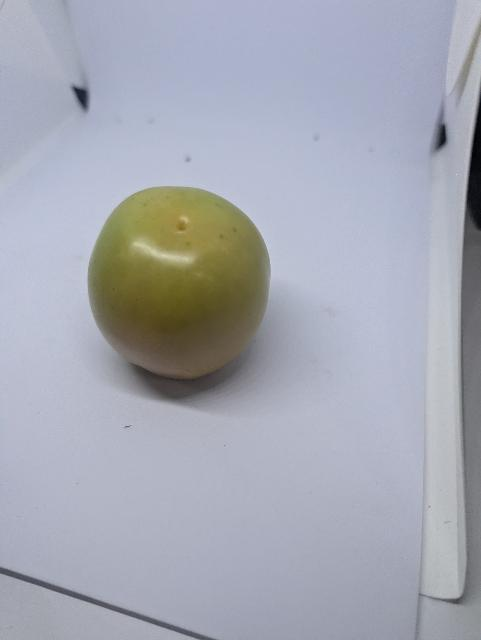breaker: (85, 186, 272, 389)
